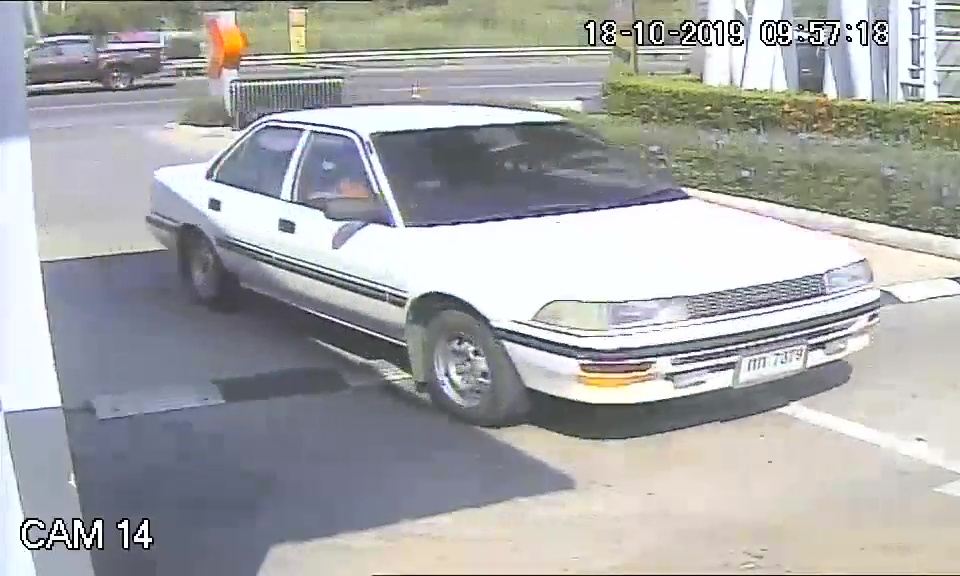sedan: (138, 96, 889, 429)
